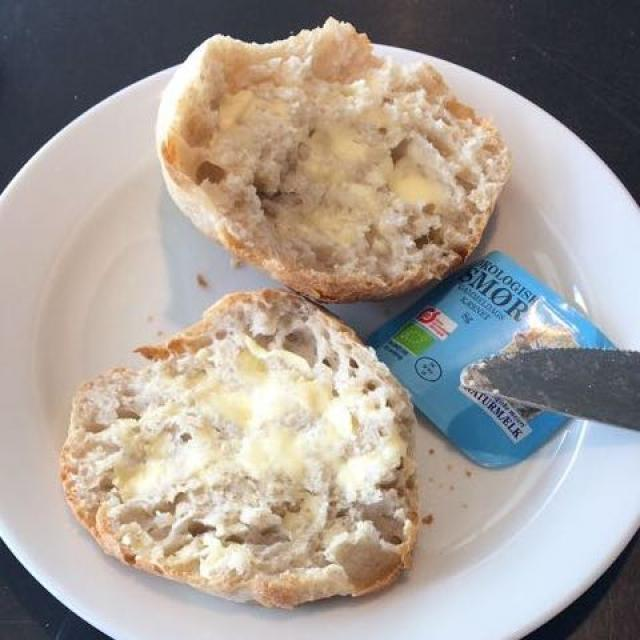bread: (158, 22, 510, 303)
butter: (61, 299, 421, 605)
